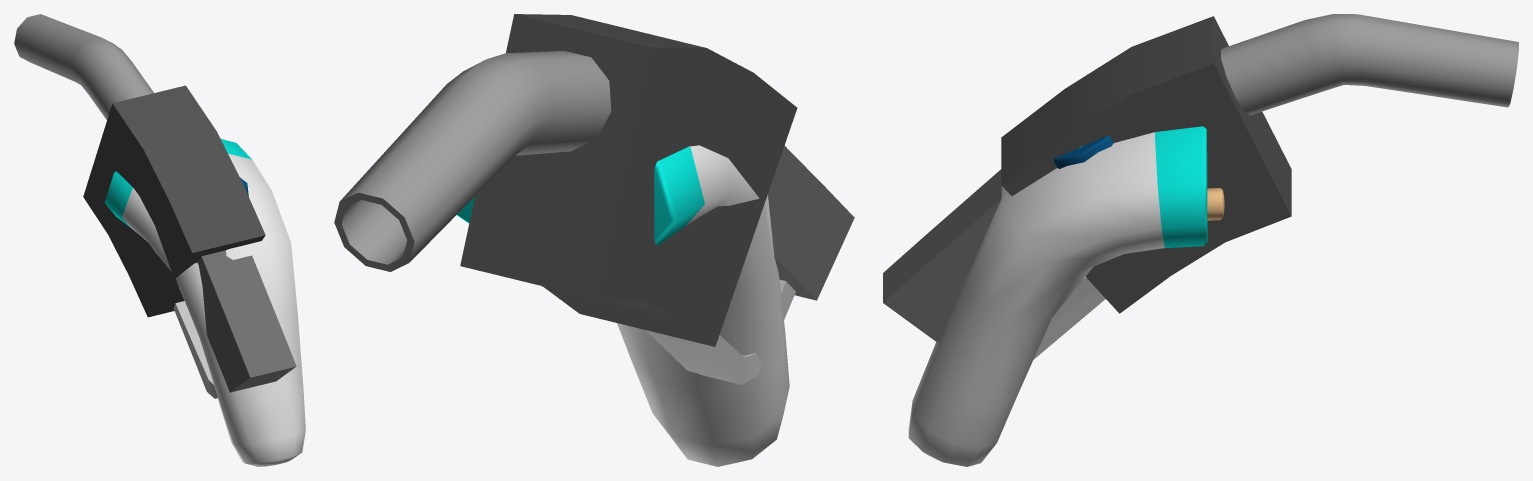
The model's file is PumpsP.fbx.
The picture shows the model from 3 angles, left to right: view 1: azimuth 30°, elevation 25°; view 2: azimuth 150°, elevation 25°; view 3: azimuth 270°, elevation 25°; orthographic projection. The views are drawn at different scales.
Visible parts, largest first — view 1: PumpP, ElectricP; view 2: PumpP, ElectricP; view 3: PumpP, ElectricP.
Boxes of the visible parts, x1,y1,x2,y2 form: PumpP: [14, 14, 296, 398]; ElectricP: [104, 139, 305, 466]; PumpP: [334, 14, 854, 384]; ElectricP: [457, 145, 789, 466]; PumpP: [883, 14, 1518, 359]; ElectricP: [908, 126, 1224, 466].
Bounding box in the file's own units: 19.99 × 43.38 × 58.67.
